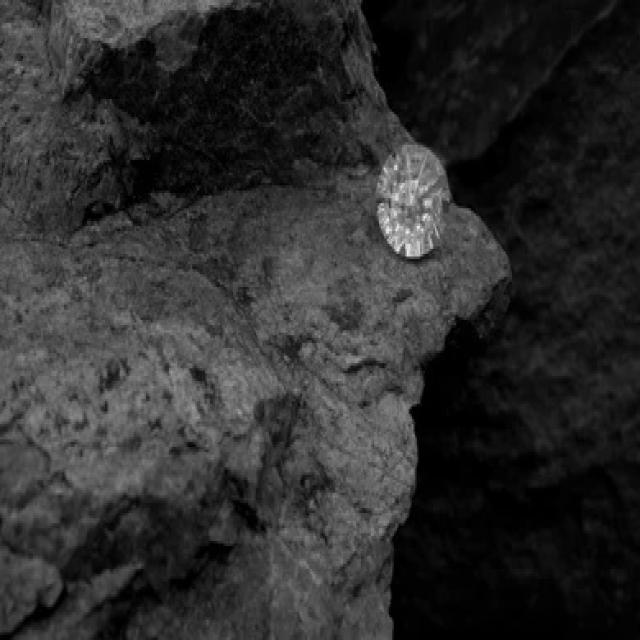Sedimentary: (2, 2, 376, 635)
